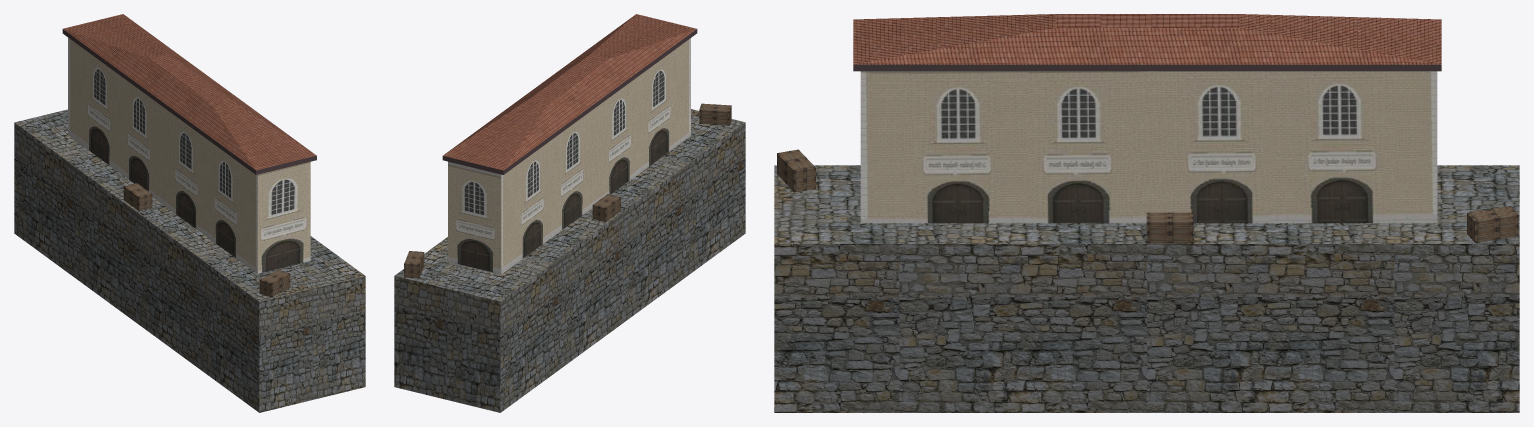
Rendered from market_backup.glb.
The picture shows the model from 3 angles, left to right: view 1: azimuth 30°, elevation 25°; view 2: azimuth 150°, elevation 25°; view 3: azimuth 270°, elevation 25°; orthographic projection. The views are drawn at different scales.
Parts seen in each view (by area): view 1: Cube.002, Cube, Cube.001, Cube.008; view 2: Cube.002, Cube, Cube.001, Cube.008; view 3: Cube.002, Cube, Cube.001, Cube.008.
Boxes of the visible parts, box(x1,y1,x2,y2) form: Cube.002: box(14, 109, 365, 412); Cube: box(68, 37, 310, 273); Cube.001: box(62, 14, 316, 174); Cube.008: box(123, 183, 290, 297); Cube.002: box(394, 109, 745, 412); Cube: box(448, 38, 690, 274); Cube.001: box(442, 14, 697, 174); Cube.008: box(404, 103, 731, 278); Cube.002: box(774, 165, 1519, 412); Cube: box(860, 71, 1437, 223); Cube.001: box(853, 14, 1441, 71); Cube.008: box(777, 149, 1518, 243).
Size of the model in its own units: 2 by 4.17 by 8.
Materials: 5 (4 with a texture image).
